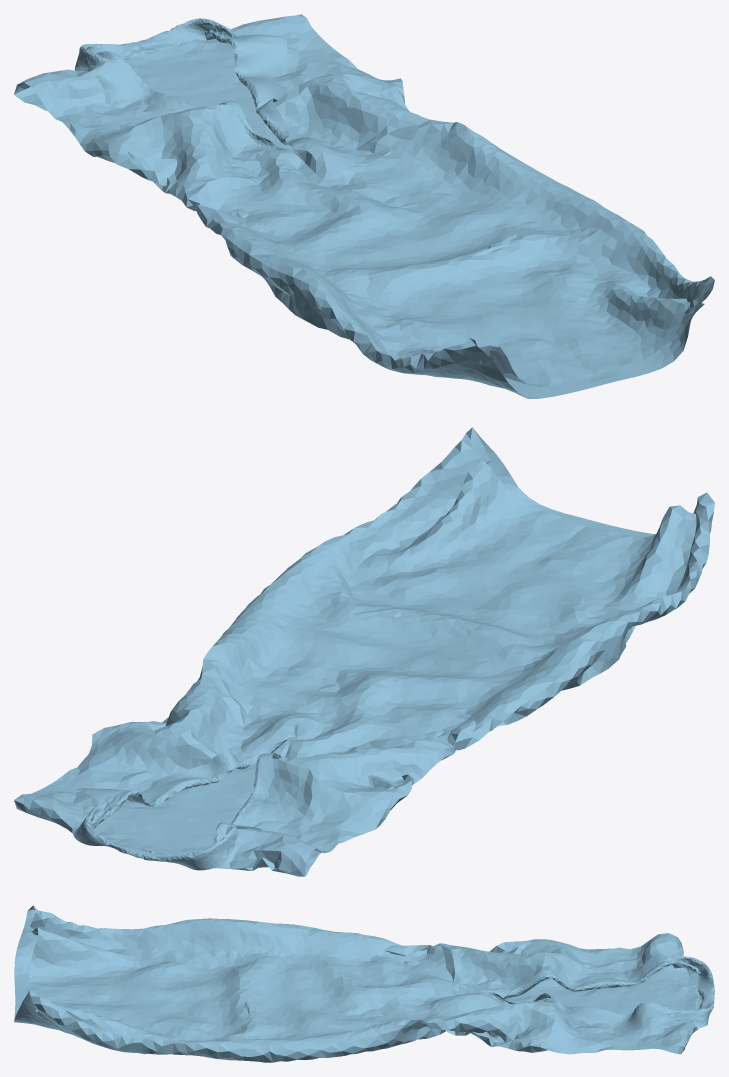
Rendered from frame_01.glb.
3 renders of one model, top to bottom at view 1: azimuth 30°, elevation 25°; view 2: azimuth 150°, elevation 25°; view 3: azimuth 270°, elevation 25°, orthographic. The views are drawn at different scales.
Visible parts, largest first — view 1: frame_01.obj; view 2: frame_01.obj; view 3: frame_01.obj.
Part boxes in pixels (x1,y1,x2,y2): frame_01.obj: [14, 14, 714, 398]; frame_01.obj: [14, 427, 714, 876]; frame_01.obj: [14, 905, 714, 1062].
Bounding box in the file's own units: 0.6621 × 0.1502 × 1.61.
